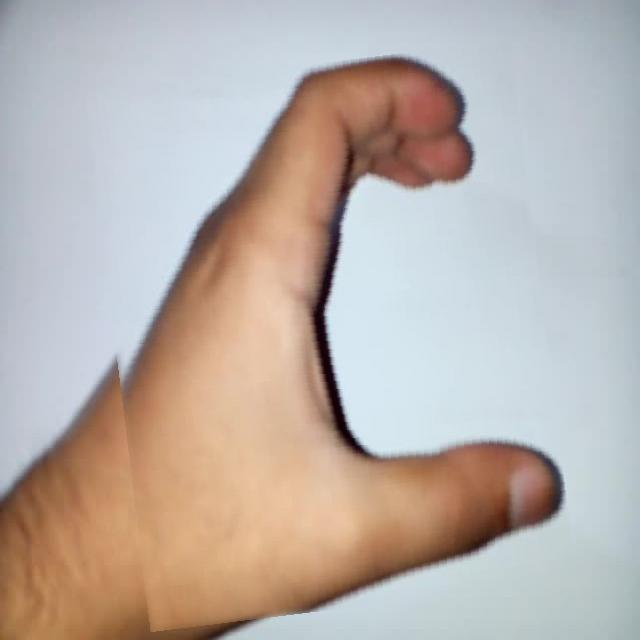C: (100, 52, 561, 620)
